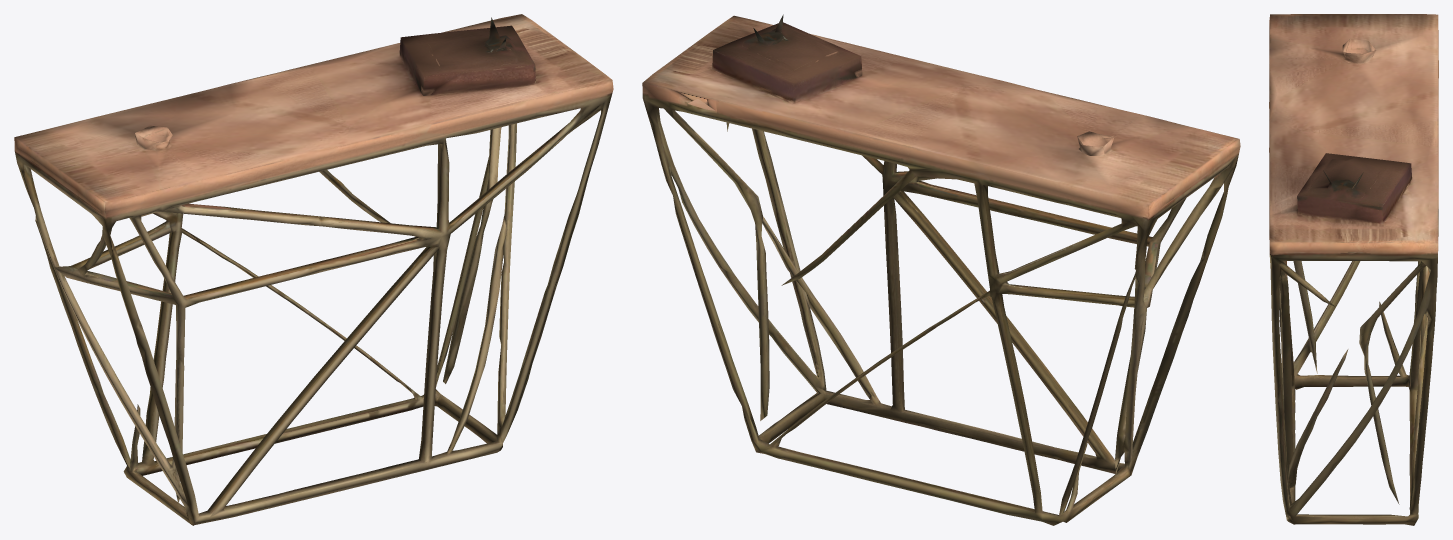
The model's file is Meshy_AI__0314092010_texture.glb.
3 views of the same model, side by side, from view 1: azimuth 30°, elevation 25°; view 2: azimuth 150°, elevation 25°; view 3: azimuth 270°, elevation 25° (orthographic). The views are drawn at different scales.
Parts seen in each view (by area): view 1: Mesh1.0; view 2: Mesh1.0; view 3: Mesh1.0.
Part boxes in pixels (box(x1,y1,x2,y2)): Mesh1.0: box(14, 14, 613, 525); Mesh1.0: box(642, 14, 1240, 525); Mesh1.0: box(1269, 14, 1438, 525).
Bounding box in the file's own units: 1.33 × 1 × 0.4169.
Materials: 1 (1 with a texture image).
